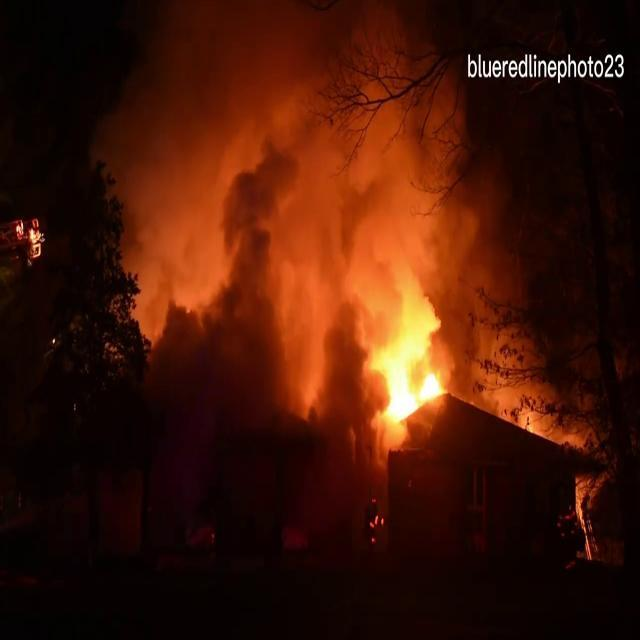Fire: (352, 238, 462, 436)
Smoke: (87, 44, 523, 311)
